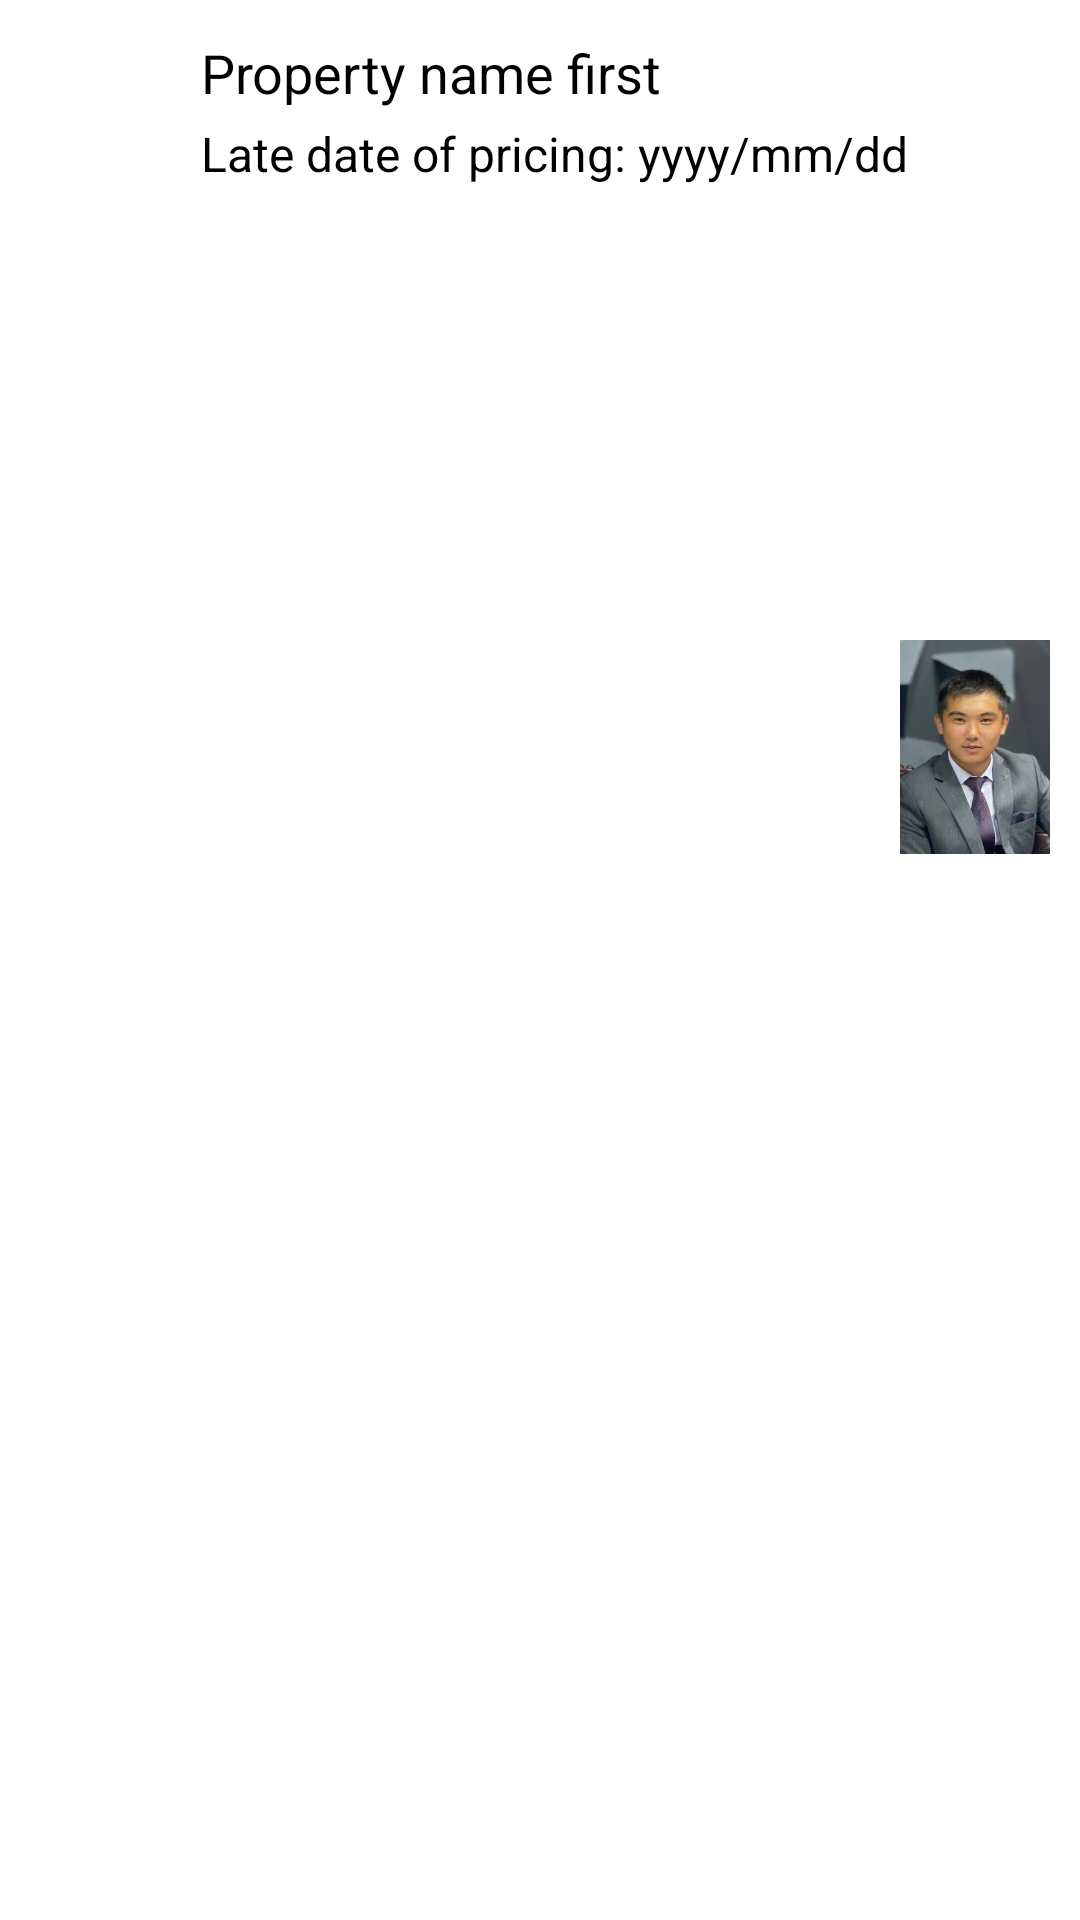

Named icons in this screenshot (1080 × 1920) and their bounding boxes, (x1=x1, y1=y1, x2=x2, y2=y2):
photo: (x1=900, y1=640, x2=1050, y2=854)
